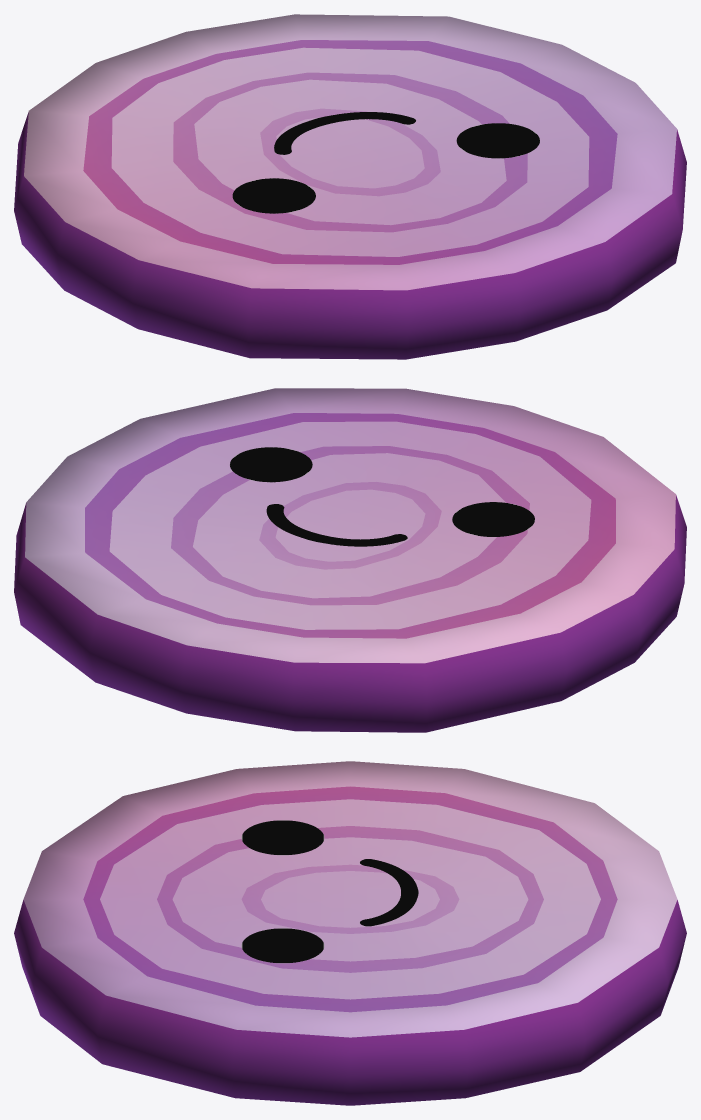
The model's file is onion_purple_slice_smile.fbx.
3 views of the same model, one above another, from view 1: azimuth 30°, elevation 25°; view 2: azimuth 150°, elevation 25°; view 3: azimuth 270°, elevation 25° (orthographic).
Visible parts, largest first — view 1: onion_purple_slice; view 2: onion_purple_slice; view 3: onion_purple_slice.
Part boxes in pixels (x1,y1,x2,y2): onion_purple_slice: (14,14,686,359); onion_purple_slice: (14,388,686,732); onion_purple_slice: (14,761,686,1105).
Size of the model in its own units: 16.48 by 16.48 by 2.06.
Materials: 2 (2 with a texture image).
